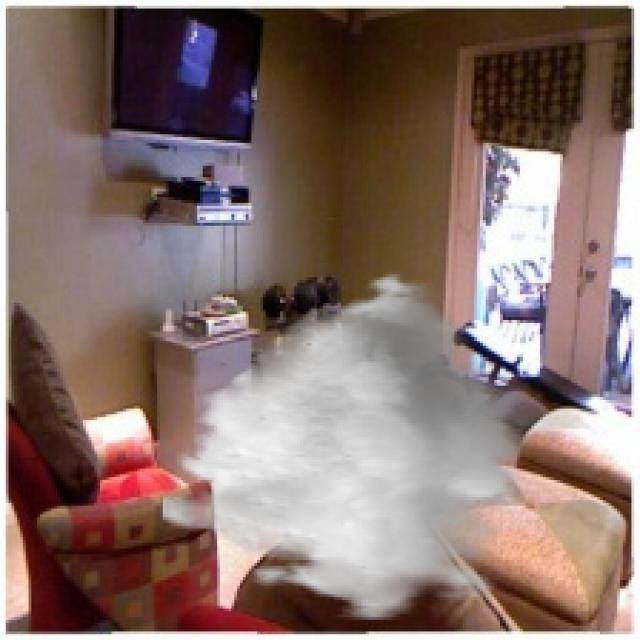smoke: (160, 266, 529, 620)
